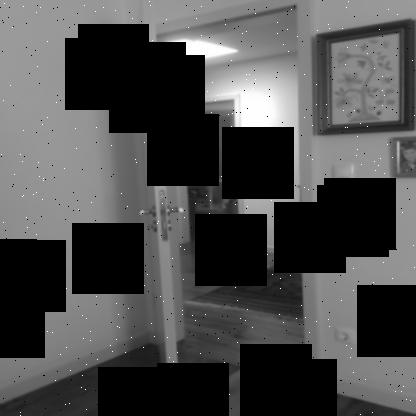Porte: (128, 0, 321, 415)
